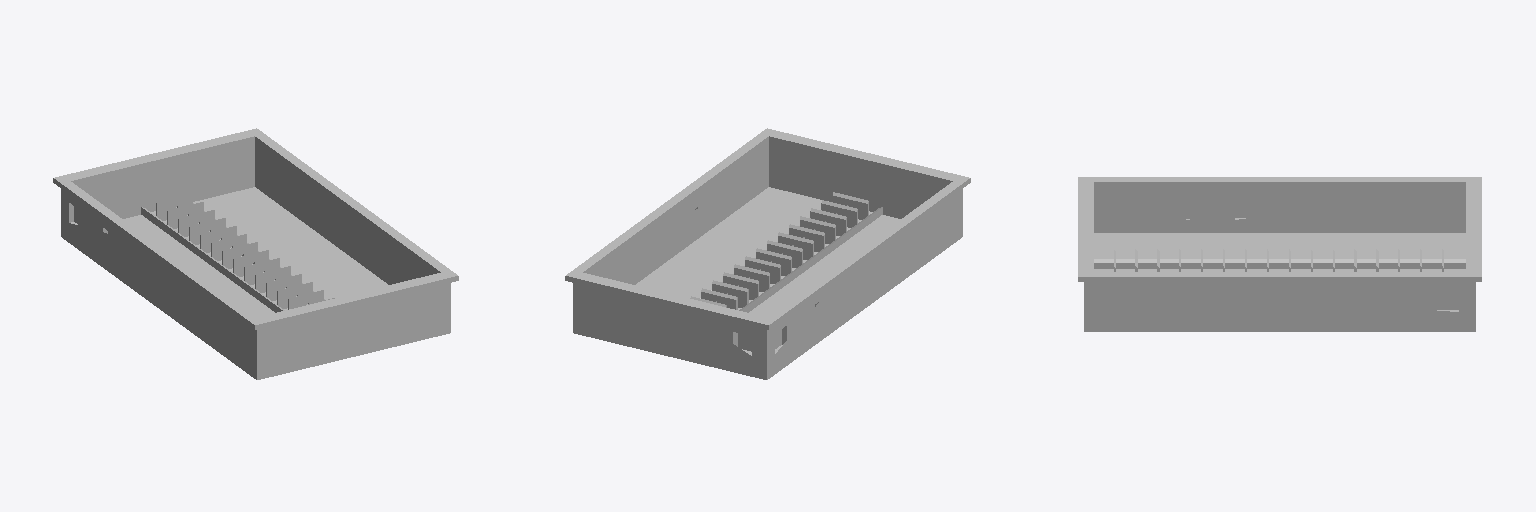
File: dish_dryer.obj
3 renders of one model, left to right at view 1: azimuth 30°, elevation 25°; view 2: azimuth 150°, elevation 25°; view 3: azimuth 270°, elevation 25°, orthographic.
Visible parts, largest first — view 1: dish_dryer; view 2: dish_dryer; view 3: dish_dryer.
Part boxes in pixels (x1,y1,x2,y2): dish_dryer: (53, 128, 458, 379); dish_dryer: (565, 128, 970, 379); dish_dryer: (1078, 177, 1481, 331).
Bounding box in the file's own units: 0.42 × 0.115 × 0.72.